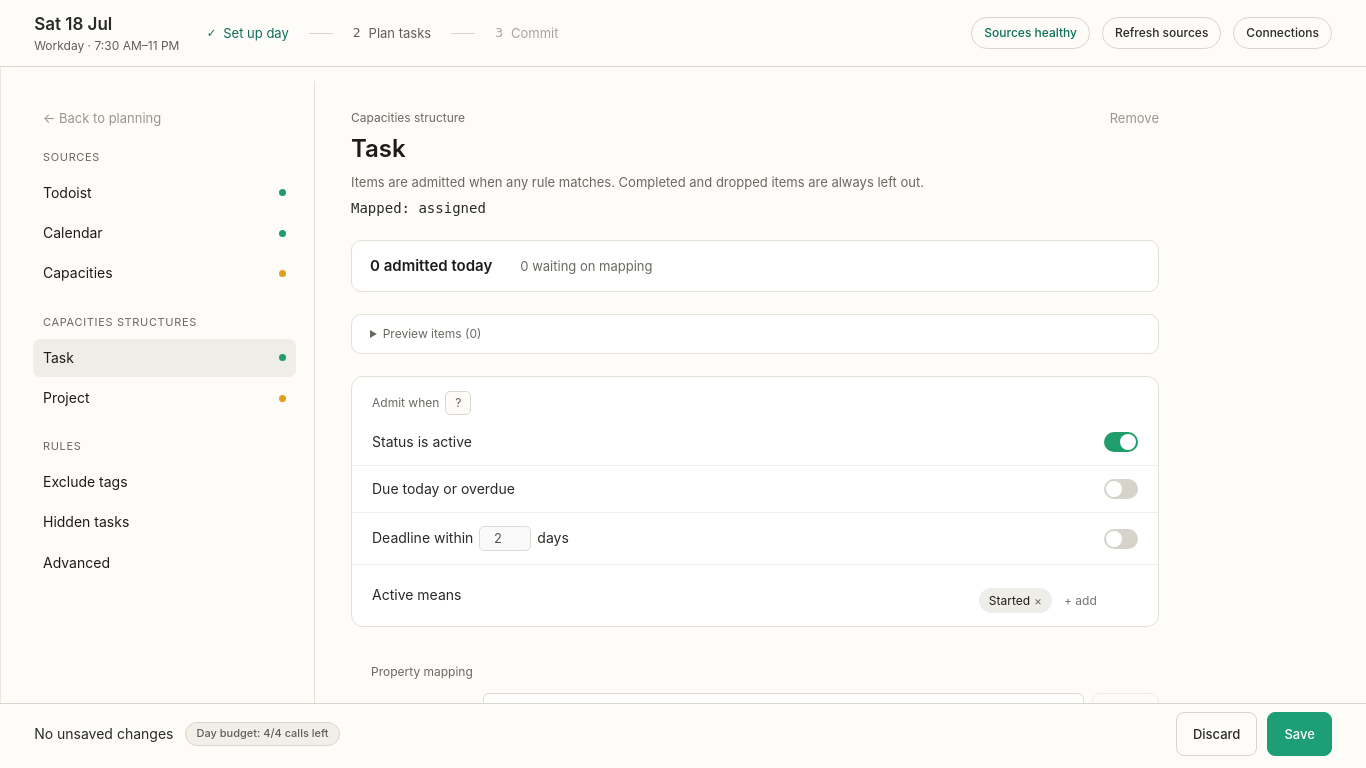
Test case: Connections screen (U13) › Save persists the rule, mapping and tag policies under their loaded revisions
This screenshot has width=1366, height=768.
Click the switch named "Status is active" at (1121, 442), box [1104,432,1138,452]
(page scrolled)
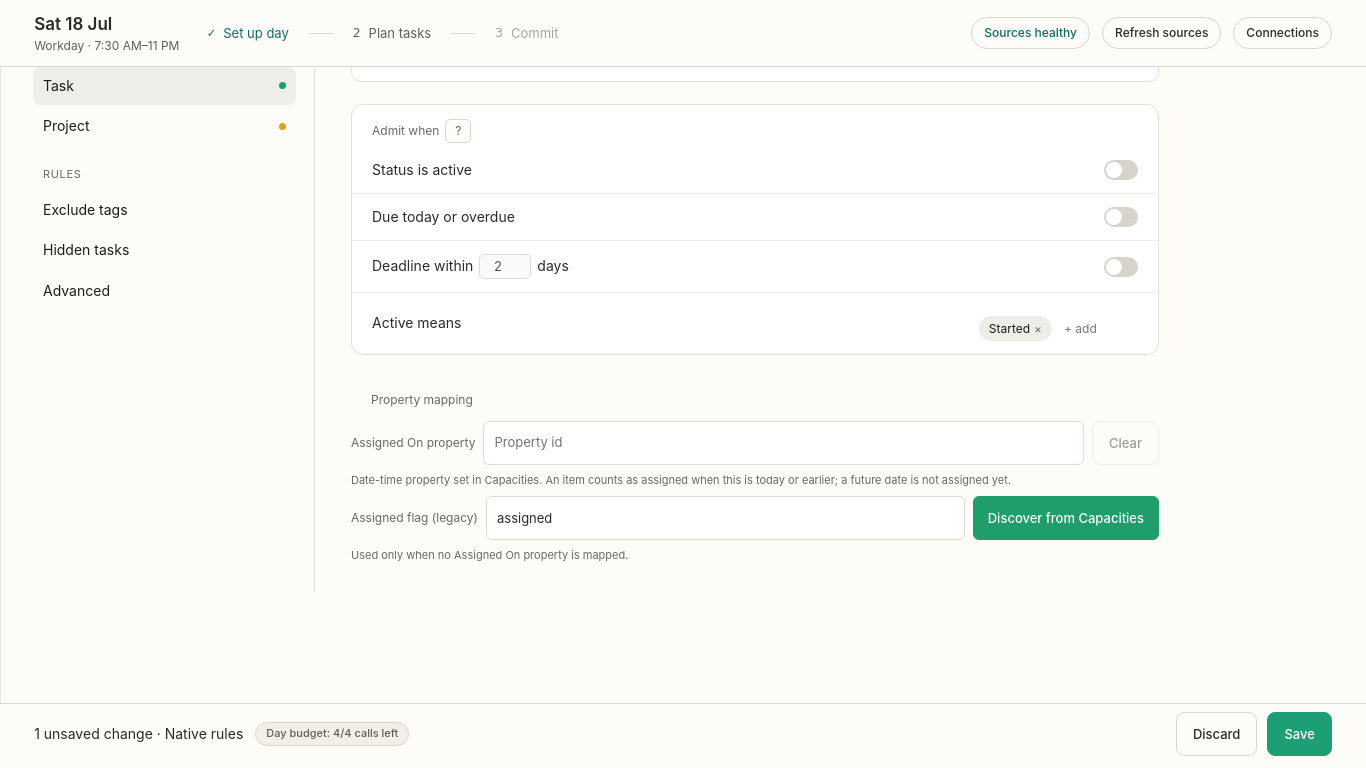
Clear the field named "mapping for RootTask" at (725, 518), box [486,496,965,540]
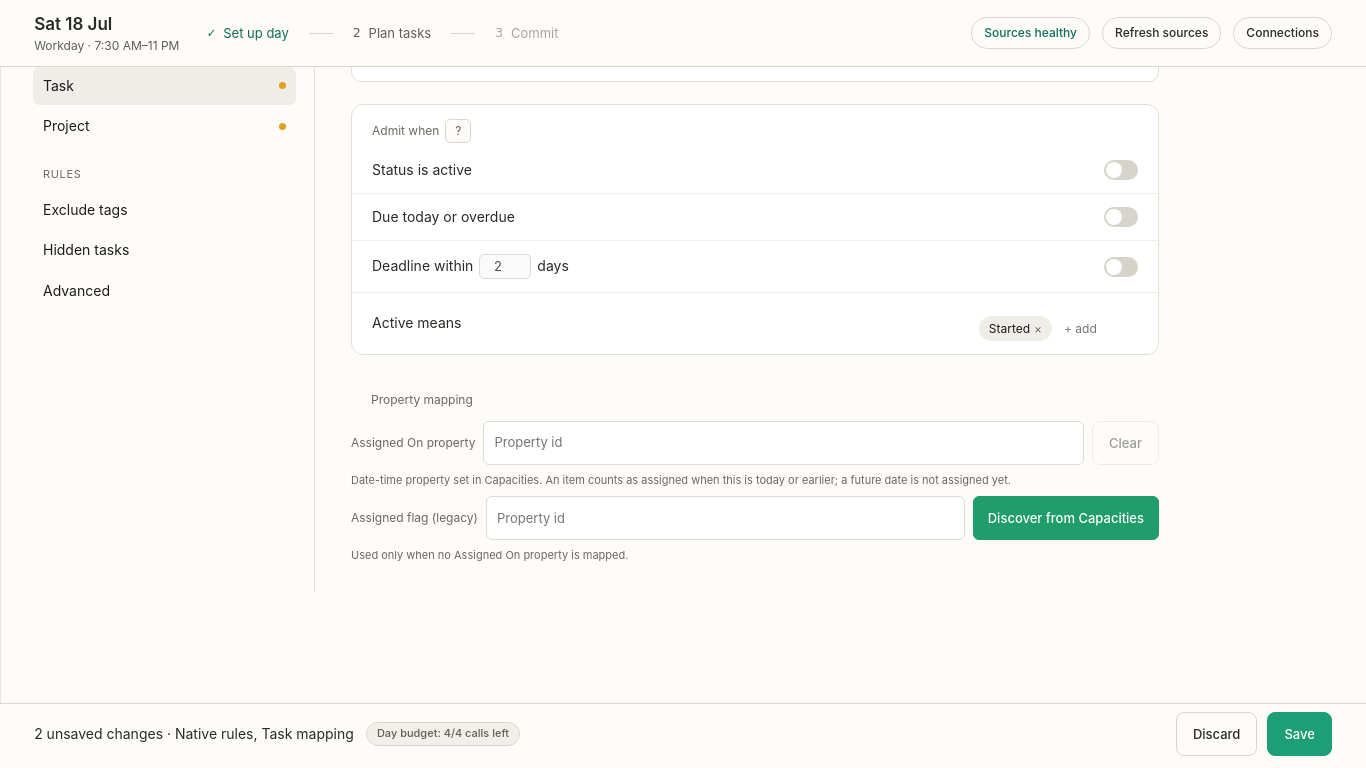
Click the button "Exclude tags" at (85, 210), box [33,191,296,230]
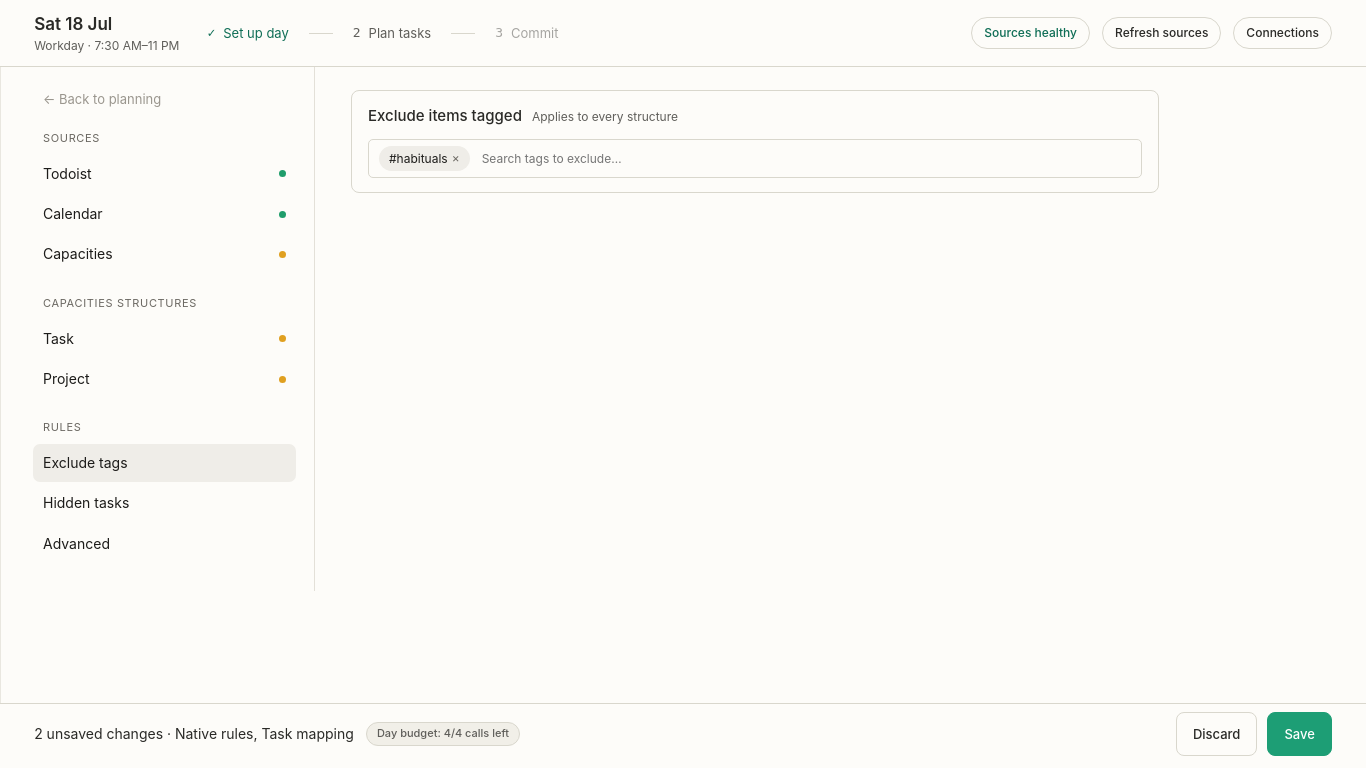
Click the button named "Remove tag #habituals" at (456, 158), box [452,152,460,164]
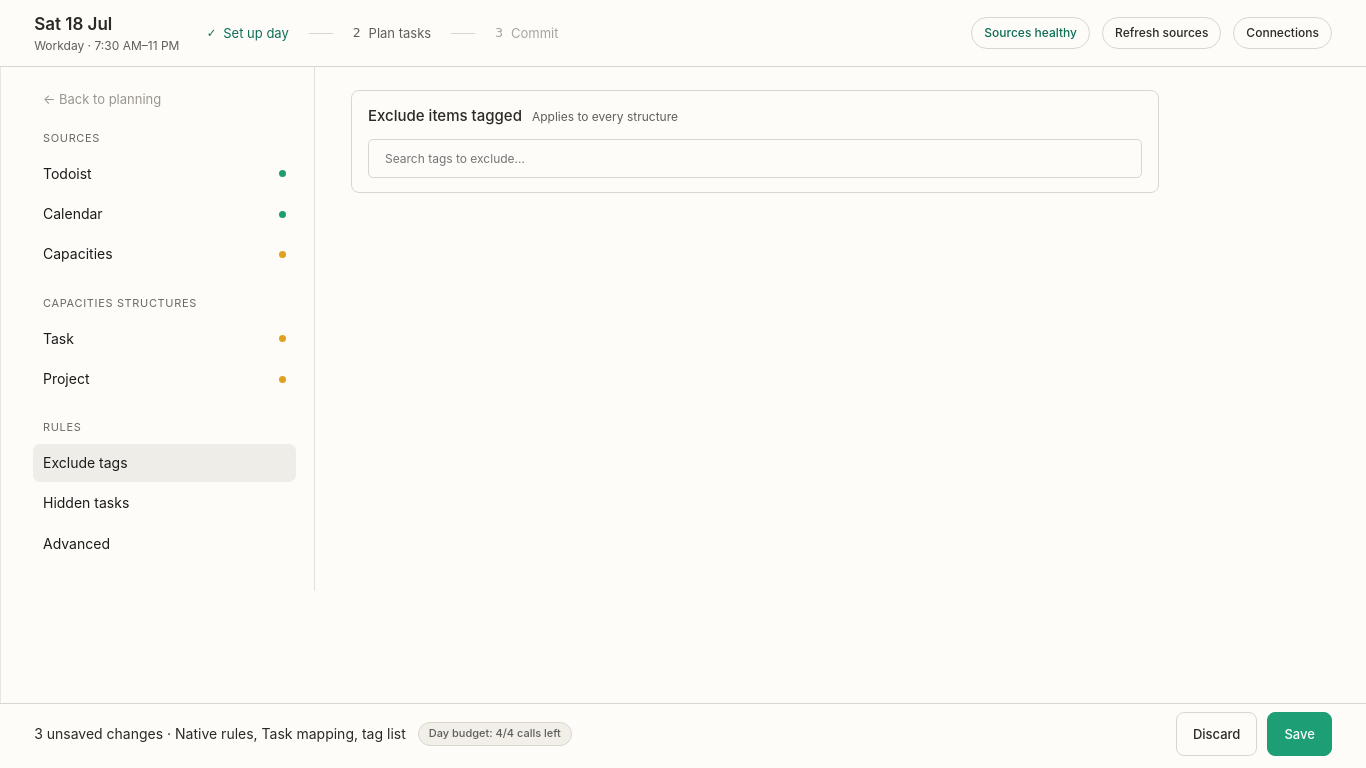
Check: the text "3 unsaved changes · Native rules, Task mapping, tag list" is shown, box [34,724,406,744]
Click the button "Save" at (1300, 734), box [1267,712,1332,756]
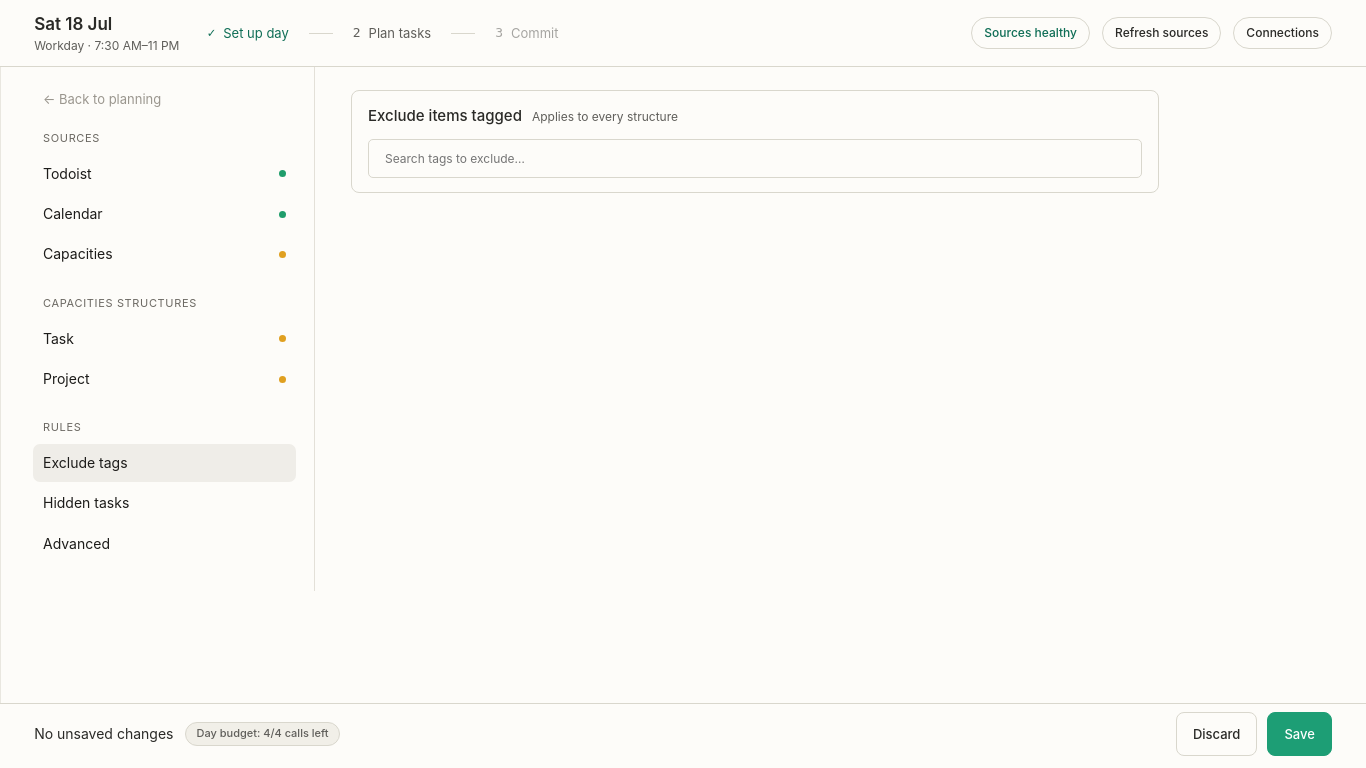
Check: the text "No unsaved changes" is shown, box [34,724,173,744]
